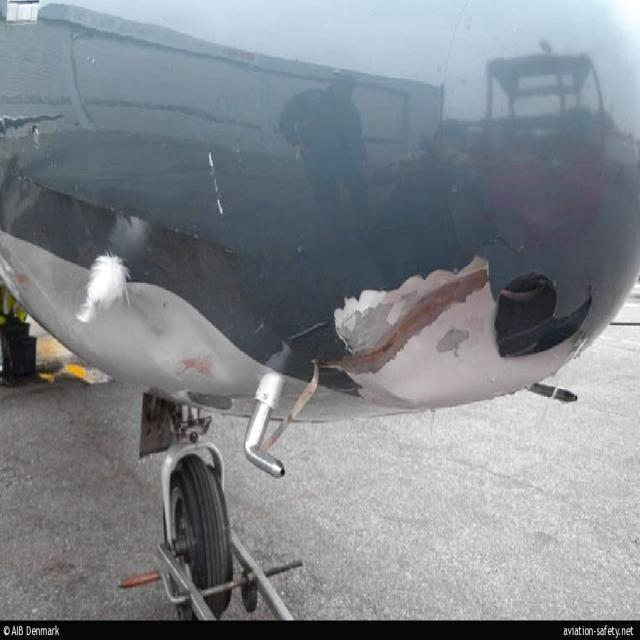dent: (123, 288, 230, 378), (374, 323, 478, 405)
